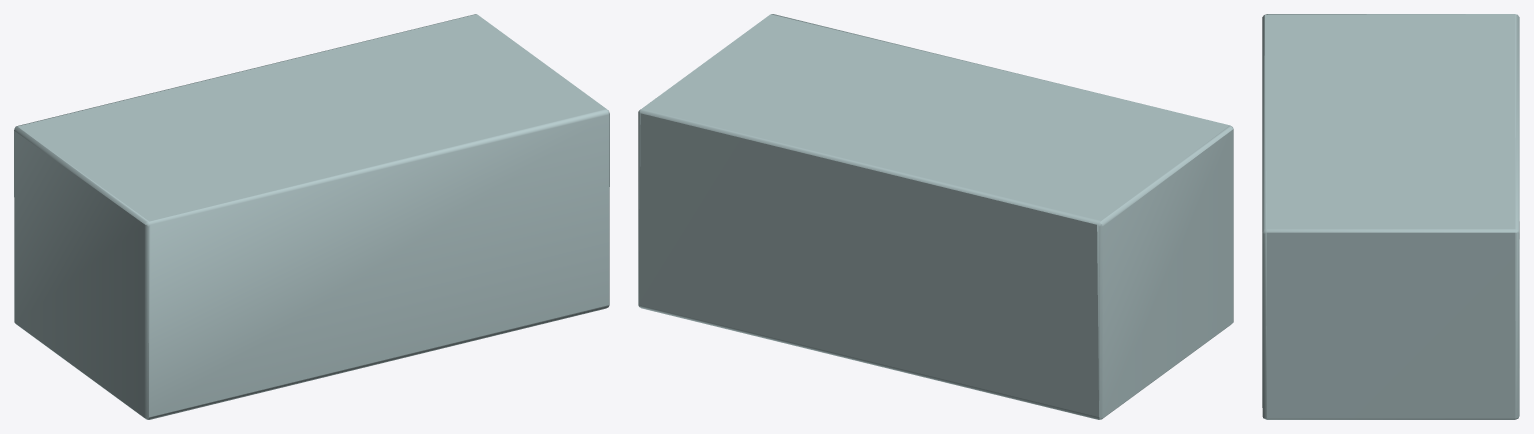
The model's file is xe_day_kinh.glb.
3 renders of one model, left to right at view 1: azimuth 30°, elevation 25°; view 2: azimuth 150°, elevation 25°; view 3: azimuth 270°, elevation 25°, orthographic. The views are drawn at different scales.
Visible parts, largest first — view 1: xe_day_kinh; view 2: xe_day_kinh; view 3: xe_day_kinh.
Boxes of the visible parts, bbox=[...] form: xe_day_kinh: bbox=[14, 14, 609, 419]; xe_day_kinh: bbox=[638, 14, 1233, 419]; xe_day_kinh: bbox=[1262, 14, 1519, 419].
Size of the model in its own units: 1.1 by 0.4489 by 0.549.
